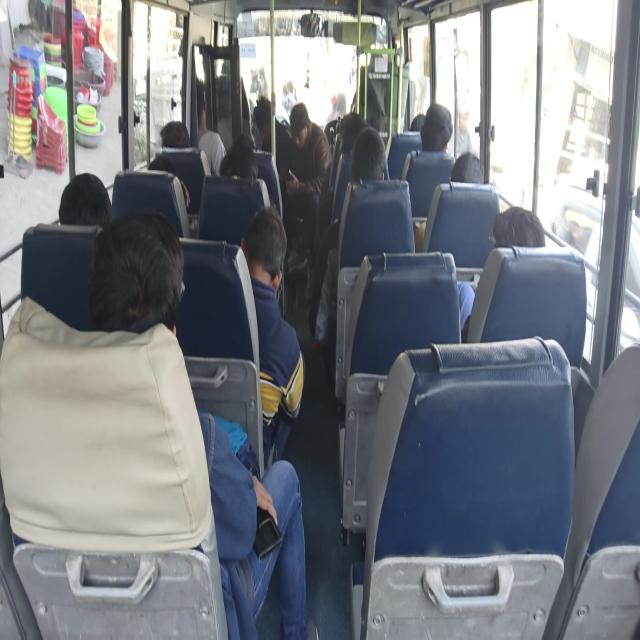person: (104, 243, 175, 332), (491, 197, 543, 263), (60, 176, 112, 240), (250, 219, 286, 290), (449, 152, 495, 200), (426, 101, 454, 156), (355, 141, 387, 183), (227, 144, 256, 184), (147, 157, 180, 191), (184, 84, 210, 126), (291, 106, 313, 150), (339, 118, 363, 157), (254, 100, 277, 139), (159, 124, 191, 150), (235, 130, 260, 154), (370, 52, 390, 82), (219, 53, 235, 81)
